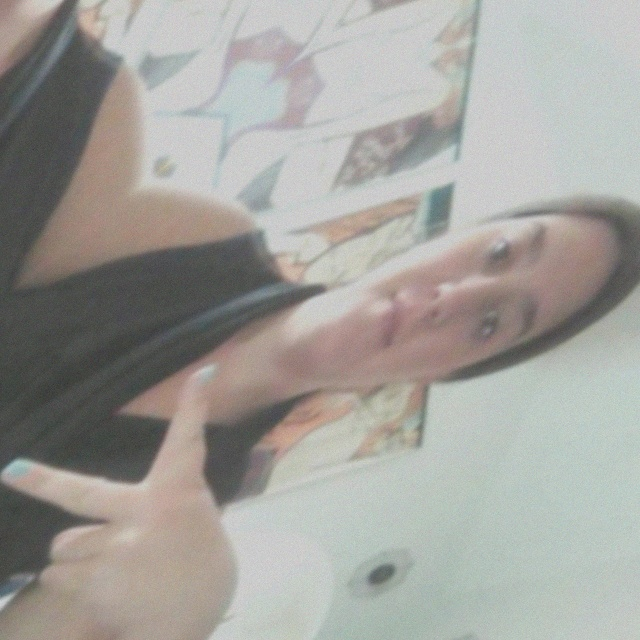Scissors: (0, 0, 91, 382)
